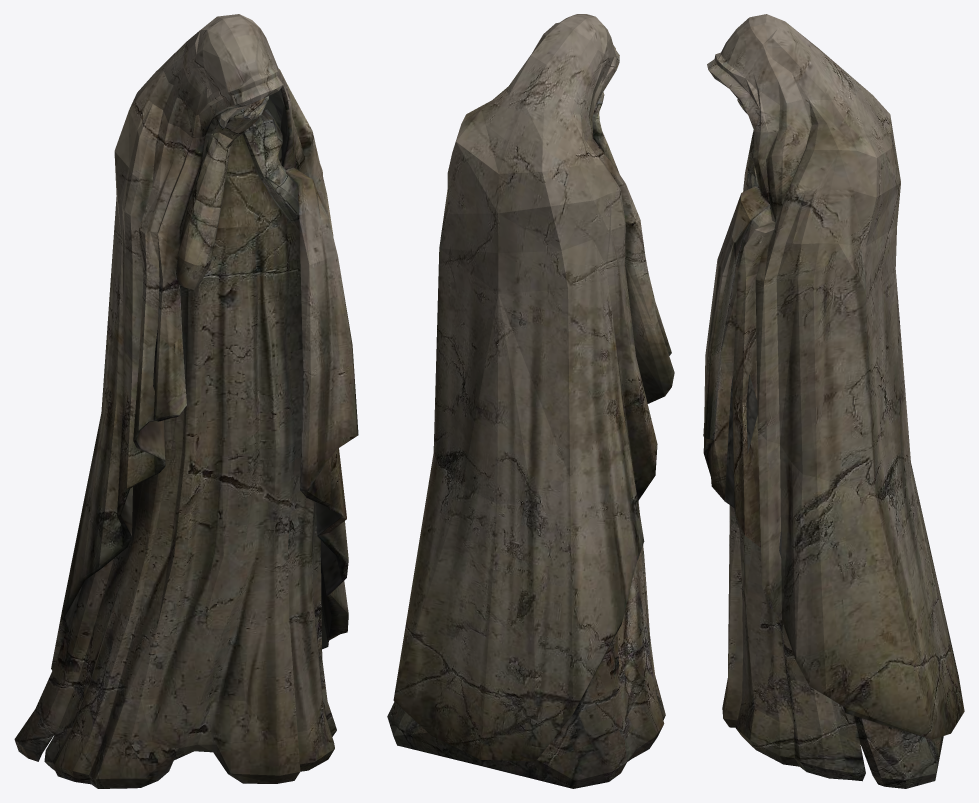
File: statue3.fbx
The picture shows the model from 3 angles, left to right: view 1: azimuth 30°, elevation 25°; view 2: azimuth 150°, elevation 25°; view 3: azimuth 270°, elevation 25°; orthographic projection. The views are drawn at different scales.
Visible parts, largest first — view 1: skp1B51_1; view 2: skp1B51_1; view 3: skp1B51_1.
Part boxes in pixels (<box>): skp1B51_1: <box>14,14,358,788</box>; skp1B51_1: <box>387,14,674,788</box>; skp1B51_1: <box>703,14,964,788</box>.
Size of the model in its own units: 1.2 by 3.25 by 1.08.
